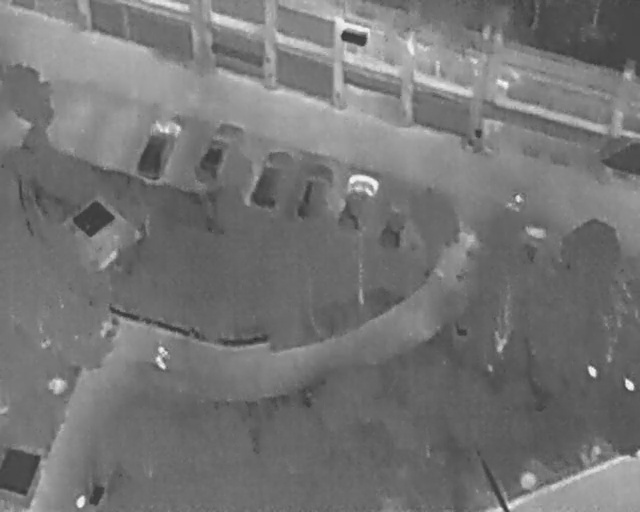Car: (189, 114, 250, 188), (245, 143, 298, 214), (133, 114, 185, 184), (330, 169, 382, 238), (293, 158, 340, 226), (374, 195, 416, 253)
Person: (502, 187, 528, 216), (155, 342, 174, 363), (151, 354, 170, 373)
